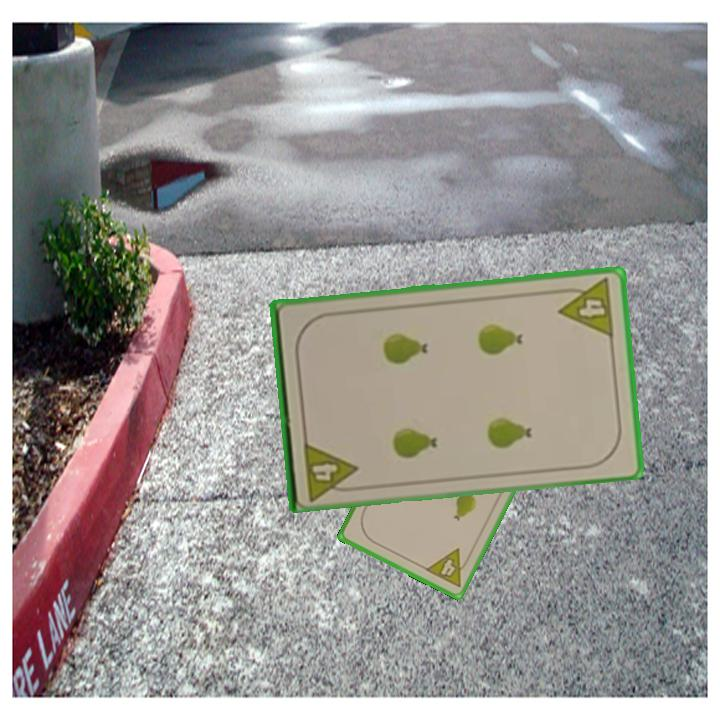4p: (554, 275, 617, 340), (300, 437, 361, 502), (422, 545, 474, 590)
